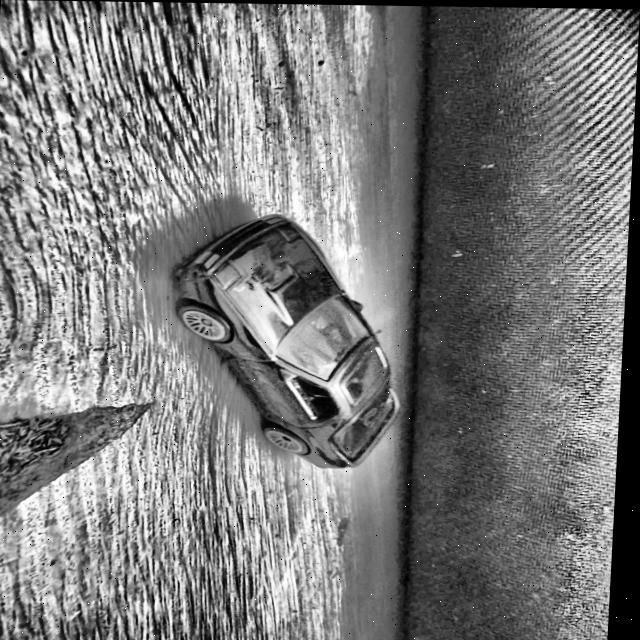car: (169, 212, 413, 468)
